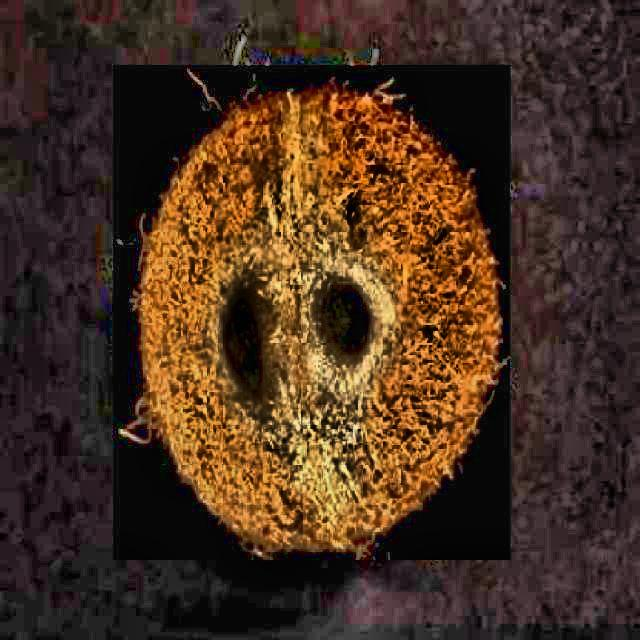cracked-coconut: (69, 33, 549, 581)
